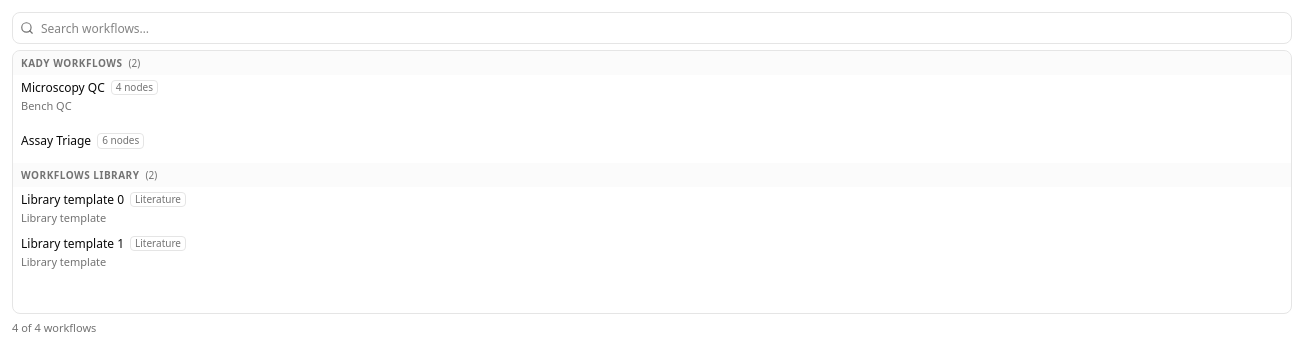
Test: SourcePicker › says which query matched nothing when the list is not empty
This screenshot has width=1304, height=349.
Type "zzz" into the search field named "Search workflow sources" at point(652, 28), box [12, 12, 1292, 44]
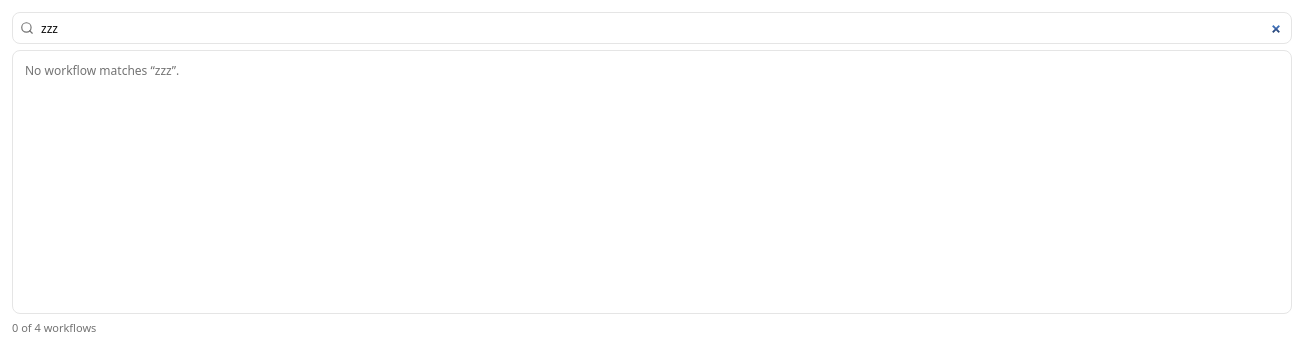
Now the text "No workflow matches “zzz”." is shown, box [25, 62, 179, 79]
